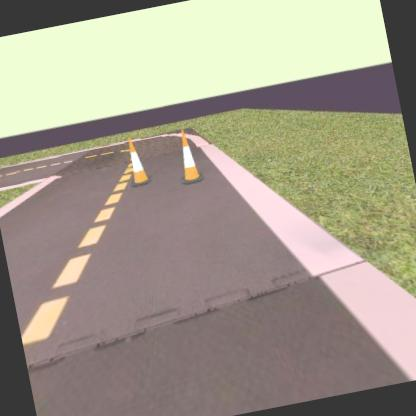Cone: (169, 124, 205, 187), (122, 134, 152, 188)
